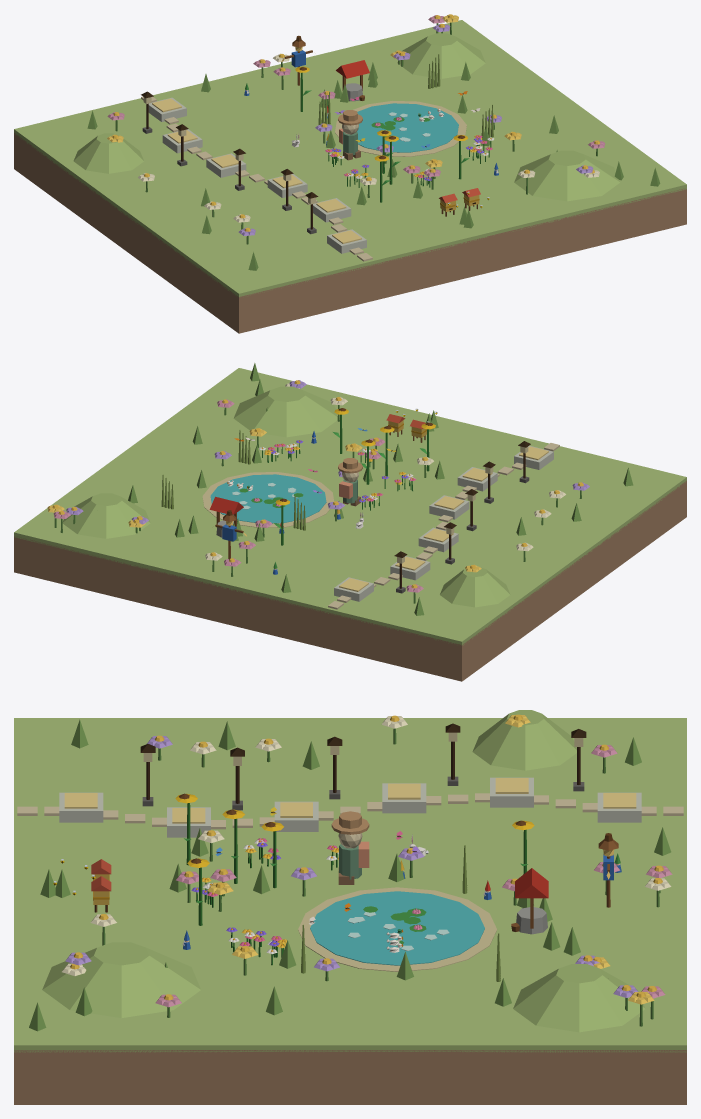
The model's file is meadow-v1.glb.
3 views of the same model, one above another, from view 1: azimuth 30°, elevation 25°; view 2: azimuth 150°, elevation 25°; view 3: azimuth 270°, elevation 25° (orthographic). The views are drawn at different scales.
Bounding box in the file's own units: 11.5 × 2.19 × 10.
